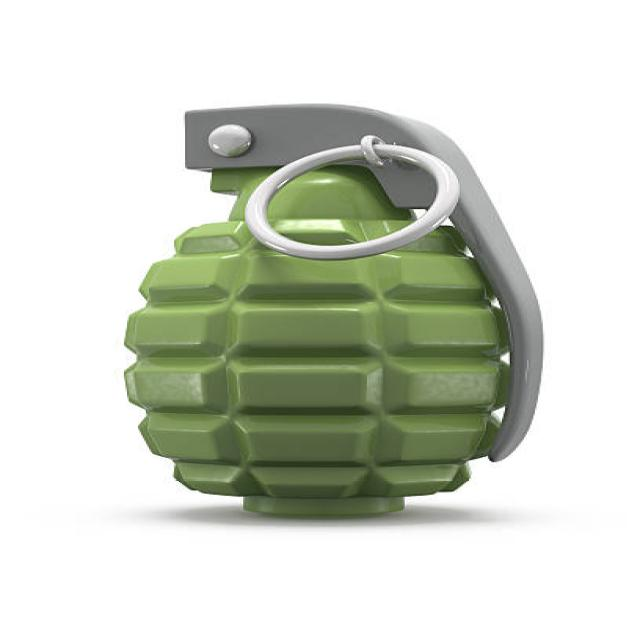grenade: (109, 97, 553, 529)
